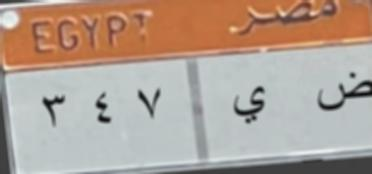3: (38, 90, 68, 135)
4: (91, 87, 117, 130)
7: (133, 82, 165, 126)
daad: (314, 72, 372, 116)
yaa: (228, 82, 269, 130)
